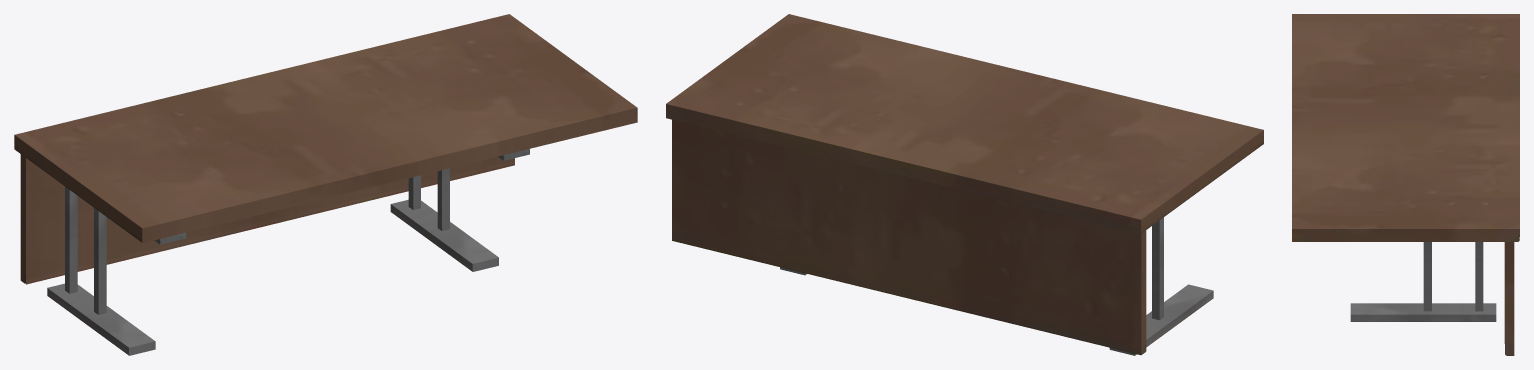
The model's file is office-desk-worn--2.gltf.
3 renders of one model, left to right at view 1: azimuth 30°, elevation 25°; view 2: azimuth 150°, elevation 25°; view 3: azimuth 270°, elevation 25°, orthographic. The views are drawn at different scales.
Visible parts, largest first — view 1: Desk_2; view 2: Desk_2; view 3: Desk_2.
Boxes of the visible parts, x1,y1,x2,y2 form: Desk_2: (14,14,637,355); Desk_2: (666,14,1263,355); Desk_2: (1292,14,1519,355).
Bounding box in the file's own units: 2.66 × 0.8039 × 1.19.
Materials: 1 (1 with a texture image).
